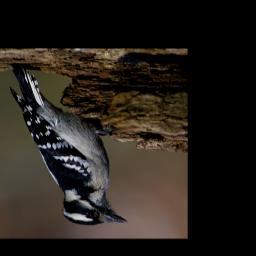Woodpecker: (9, 61, 128, 228)
